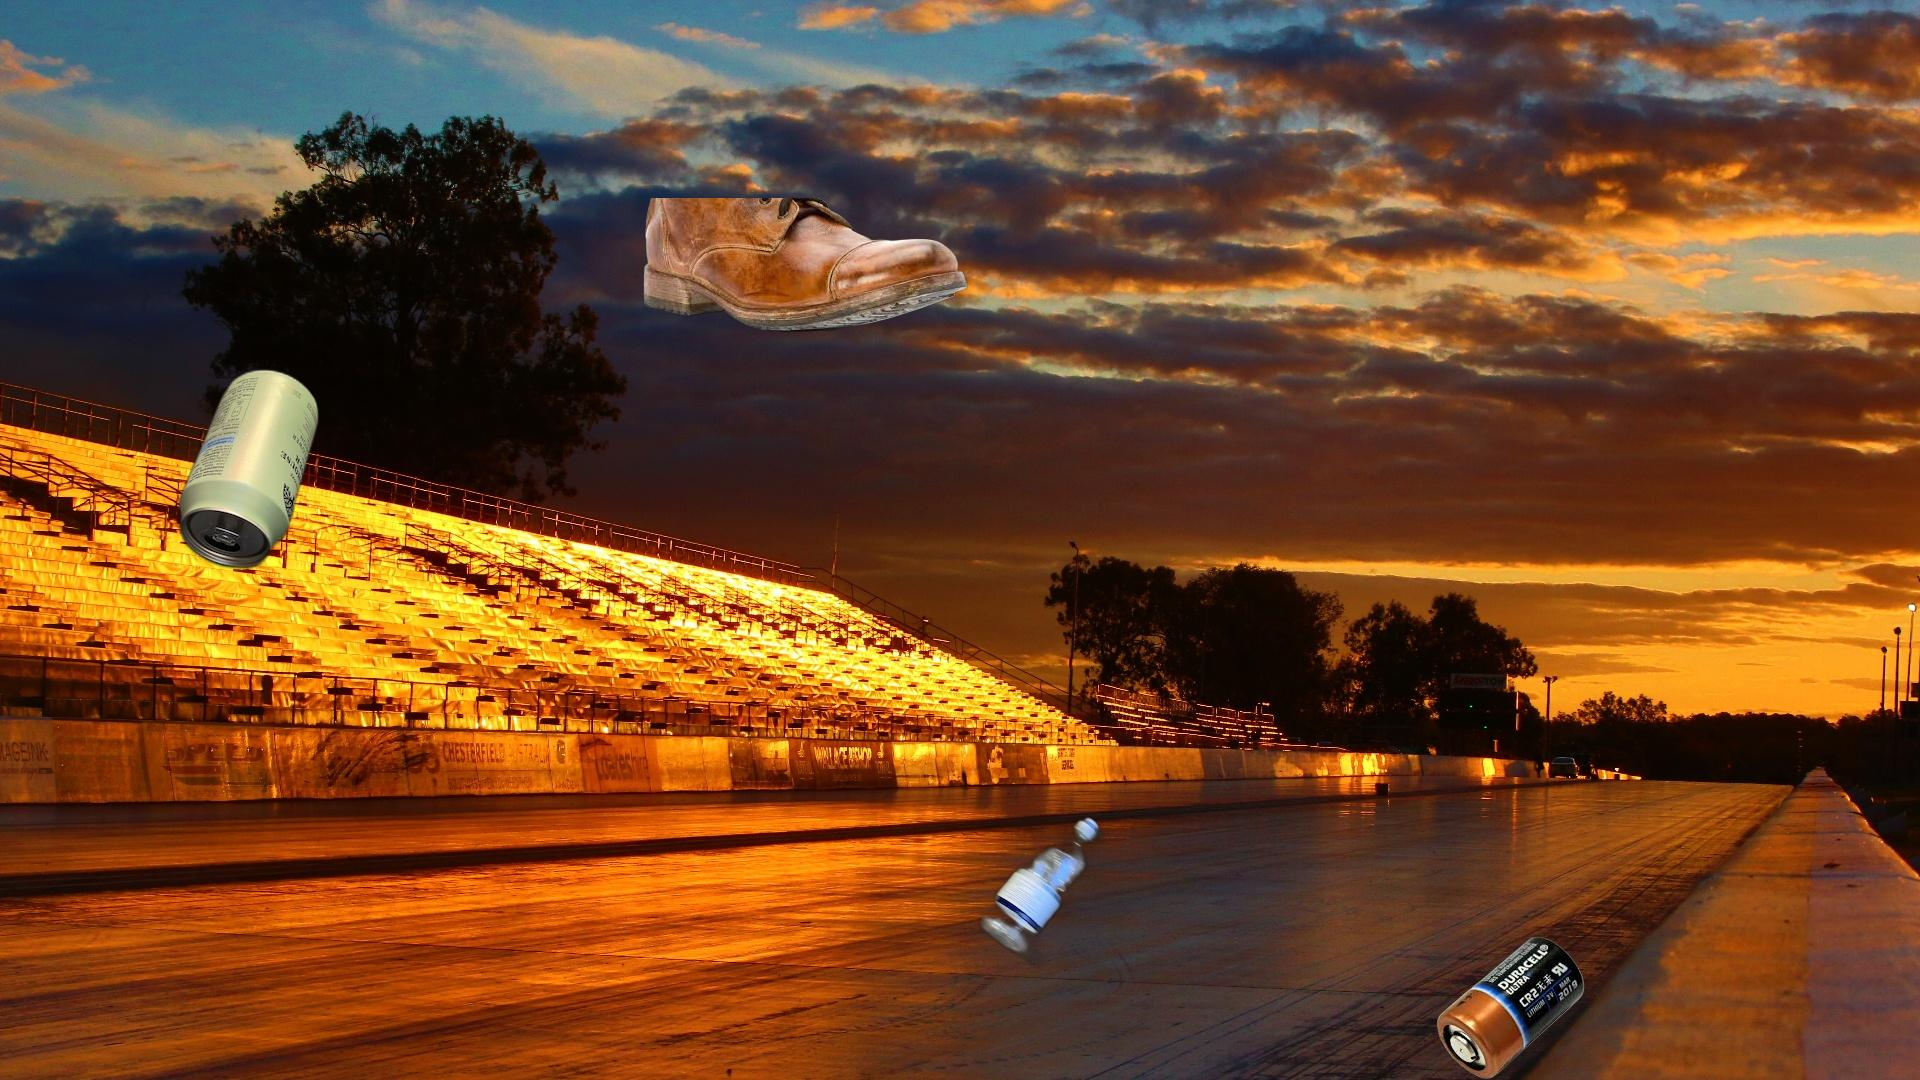battery: (1433, 934, 1586, 1080)
metal-cans: (174, 363, 322, 575)
plastic-bottles: (975, 814, 1106, 971)
shoes: (640, 198, 971, 335)
